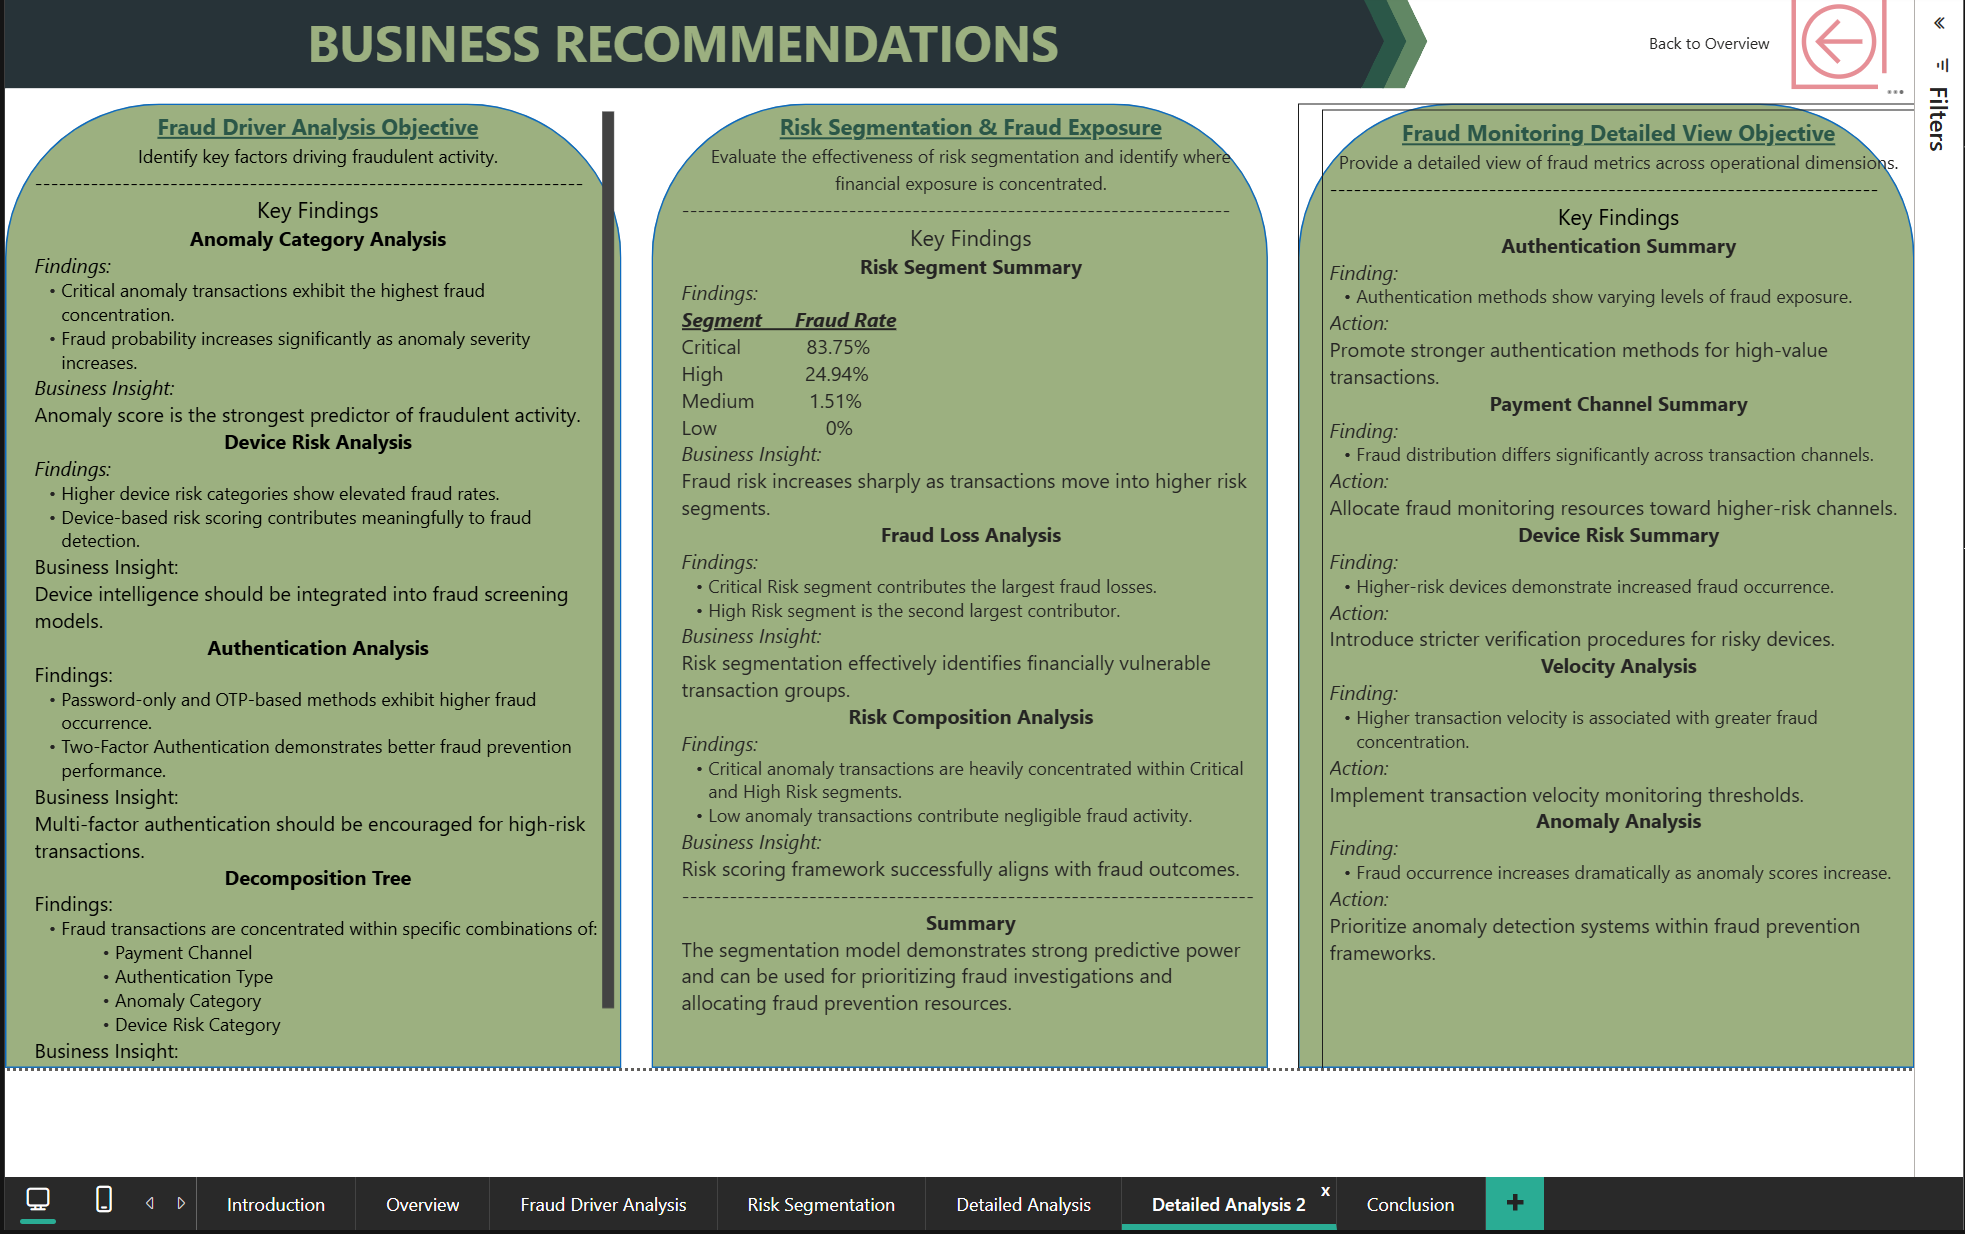

This screenshot's page, from the dashboard's own definition file:
{"tool":"powerbi","page":{"name":"Detailed Analysis 2","canvas":[1280,720],"ordinal":5},"visuals":[{"type":"group","id":"g1","title":"Group 2","box":[0,73.3,413.3,646.7],"z":0},{"type":"shape","box":[0,73.3,413.3,646.7],"z":0,"group":"g1"},{"type":"shape","box":[433.3,73.3,413.3,646.7],"z":0,"group":"g3"},{"type":"shape","box":[866.7,73.3,413.3,646.7],"z":0,"group":"g4"},{"type":"group","id":"g2","title":"Group 1","box":[0,0,953.8,63.4],"z":1000},{"type":"actionButton","box":[1198,0,63.7,63.7],"z":2000},{"type":"textbox","box":[1097.8,16.7,100,30],"z":3000},{"type":"group","id":"g3","title":"Group 2","box":[433.3,73.3,413.3,646.7],"z":4000},{"type":"group","id":"g4","title":"Group 2","box":[866.7,73.3,413.7,647.4],"z":5000},{"type":"shape","box":[0,0,940.9,63.4],"z":9000,"group":"g2"},{"type":"shape","box":[923.3,0,30.5,63.4],"z":10000,"group":"g2"},{"type":"shape","box":[909.2,0,30.5,63.4],"z":11000,"group":"g2"},{"type":"textbox","box":[15.3,73.3,398,646.7],"z":12000,"group":"g1"},{"type":"textbox","box":[448.6,73.3,398,646.7],"z":12000,"group":"g3"},{"type":"textbox","box":[882.6,77.4,397.8,643.3],"z":12000,"group":"g4"}]}

Visuals, with their boxes on the page's 1280x720 design canvas (x1, y1, x2, y2). These are canvas units, not pixel positions in the 1965x1234 screenshot, which may show the page scaled, cropped or inside an application window:
"Group 2" group: bbox(0, 73, 413, 720)
shape: bbox(0, 73, 413, 720)
shape: bbox(433, 73, 847, 720)
shape: bbox(867, 73, 1280, 720)
"Group 1" group: bbox(0, 0, 954, 63)
actionButton: bbox(1198, 0, 1262, 64)
textbox: bbox(1098, 17, 1198, 47)
"Group 2" group: bbox(433, 73, 847, 720)
"Group 2" group: bbox(867, 73, 1280, 721)
shape: bbox(0, 0, 941, 63)
shape: bbox(923, 0, 954, 63)
shape: bbox(909, 0, 940, 63)
textbox: bbox(15, 73, 413, 720)
textbox: bbox(449, 73, 847, 720)
textbox: bbox(883, 77, 1280, 721)
